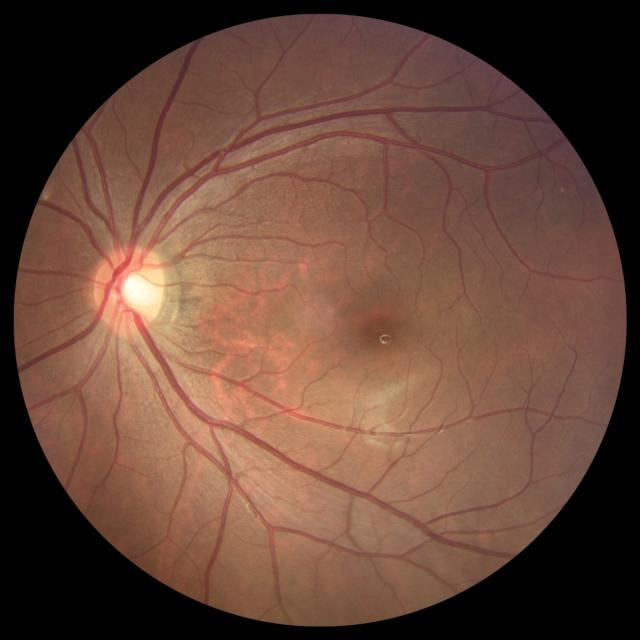OC: (117, 269, 156, 310)
OD: (92, 244, 167, 334)
